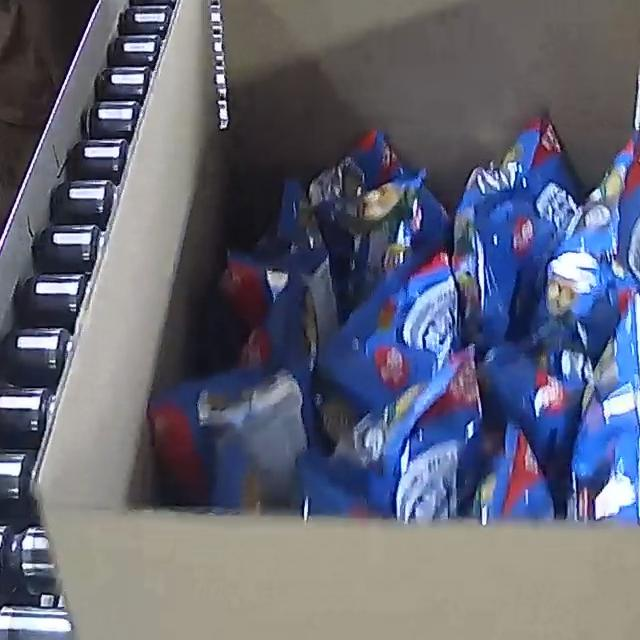paprika: (145, 111, 640, 524)
